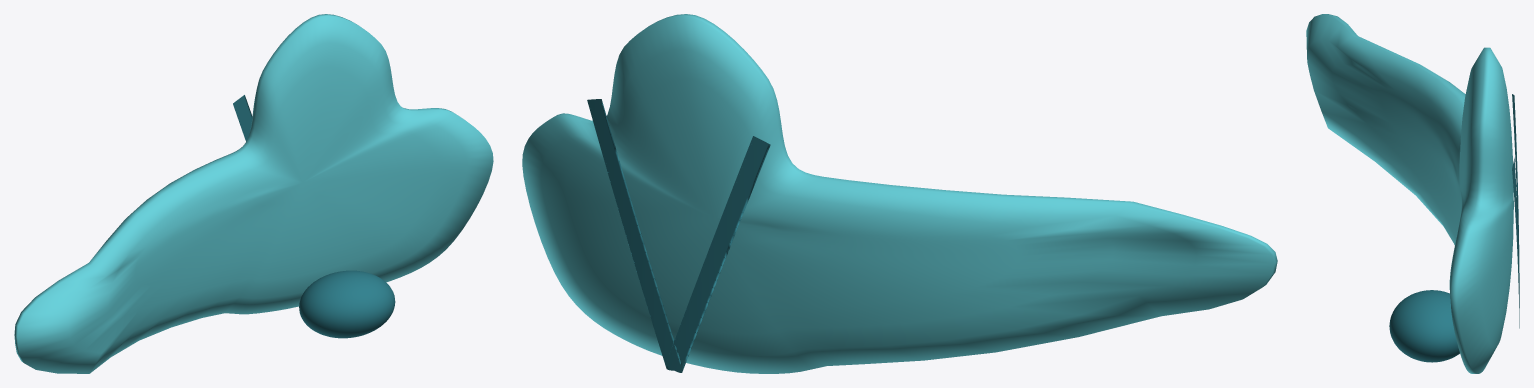
Rendered from ocean-fin.glb.
The picture shows the model from 3 angles, left to right: view 1: azimuth 30°, elevation 25°; view 2: azimuth 150°, elevation 25°; view 3: azimuth 270°, elevation 25°; orthographic projection. The views are drawn at different scales.
Parts seen in each view (by area): view 1: fin_continuous_membrane, fin_hidden_root, fin_rib_-1; view 2: fin_continuous_membrane, fin_rib_-1, fin_rib_1; view 3: fin_continuous_membrane, fin_hidden_root, fin_rib_1, fin_rib_-1.
Part boxes in pixels (x1,y1,x2,y2): fin_continuous_membrane: (14,14,493,373); fin_hidden_root: (299,270,395,338); fin_rib_-1: (233,95,252,141); fin_continuous_membrane: (522,14,1277,373); fin_rib_-1: (666,136,770,372); fin_rib_1: (587,99,681,370); fin_continuous_membrane: (1306,14,1513,373); fin_hidden_root: (1389,290,1459,362); fin_rib_1: (1512,158,1519,328); fin_rib_-1: (1512,94,1519,283).
Bounding box in the file's own units: 1.51 × 0.785 × 0.4996.
